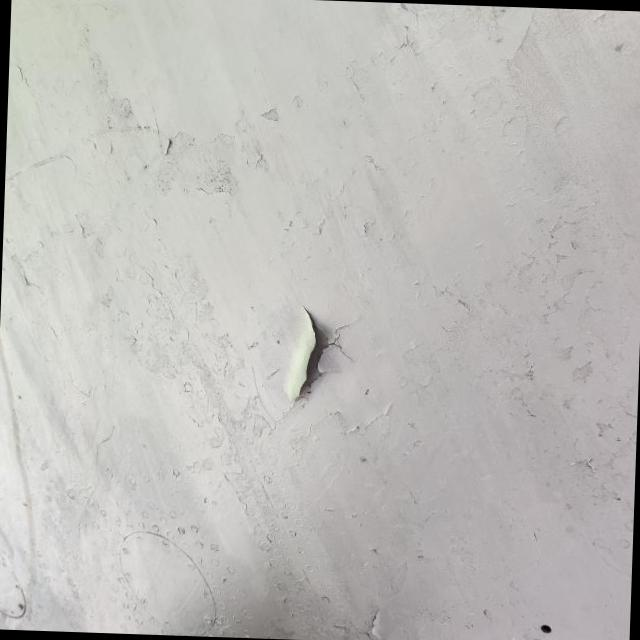Paint-off: (264, 303, 333, 419)
